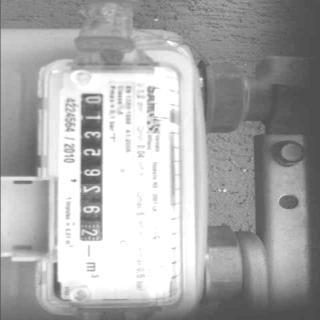1: (83, 95, 102, 105)
2: (84, 112, 102, 123)
3: (82, 184, 101, 196), (80, 227, 99, 238)
4: (83, 130, 102, 141)
6: (82, 147, 103, 159)
7: (83, 204, 102, 214)
:: (82, 167, 102, 178)
